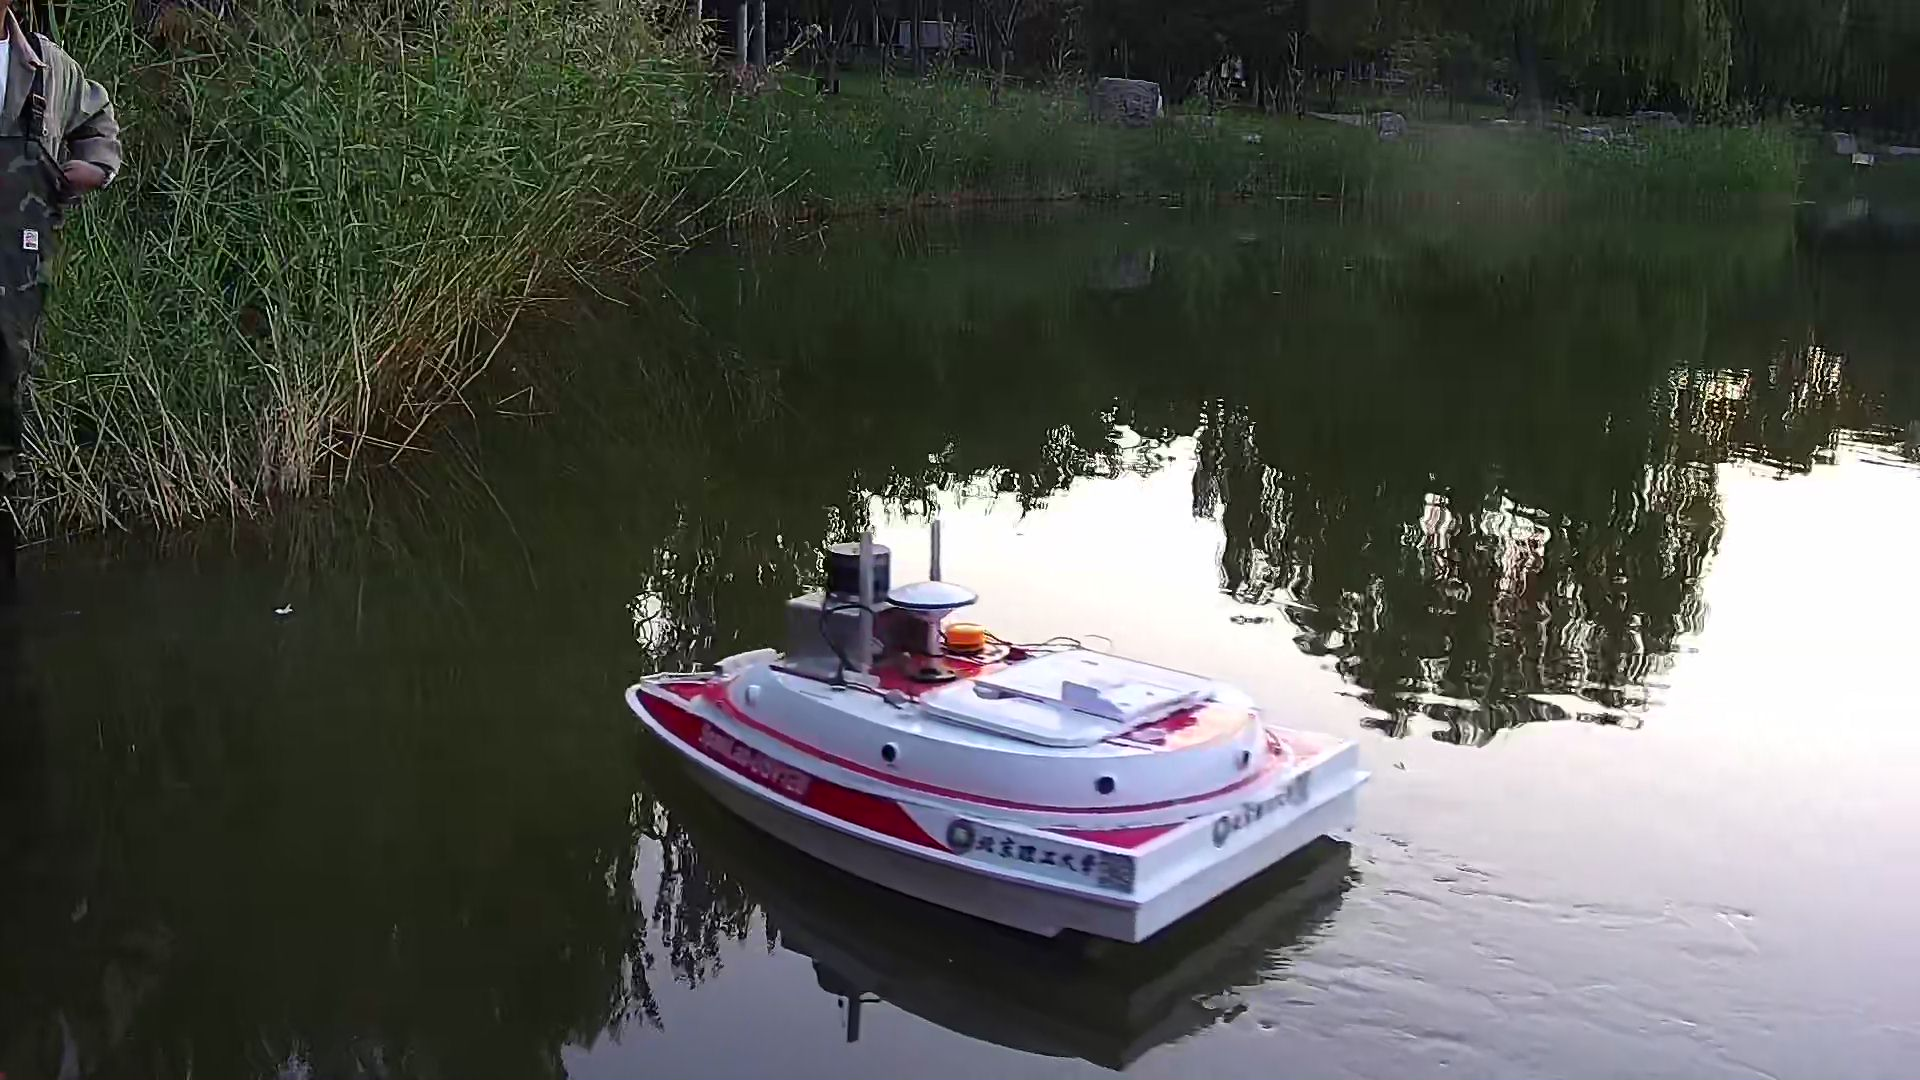boat: (622, 516, 1371, 945)
